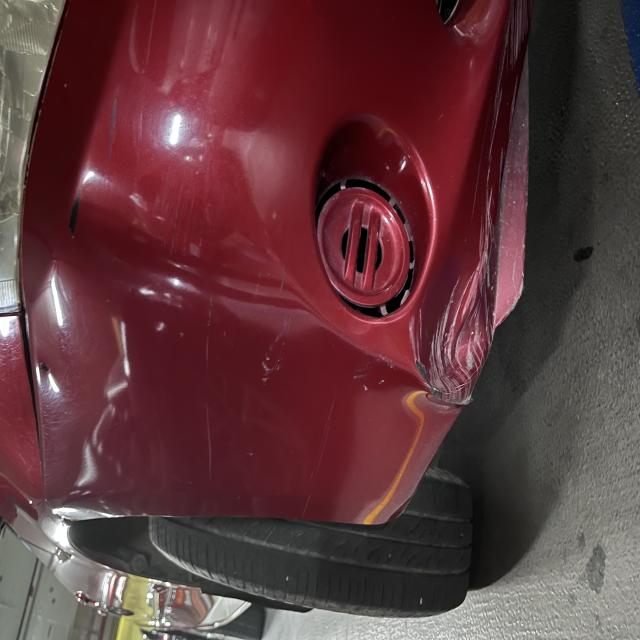scratch: (173, 539, 434, 640), (179, 336, 291, 398), (275, 206, 356, 280), (88, 402, 195, 450), (109, 265, 262, 291), (185, 465, 231, 525), (356, 135, 427, 169), (298, 87, 341, 111)
